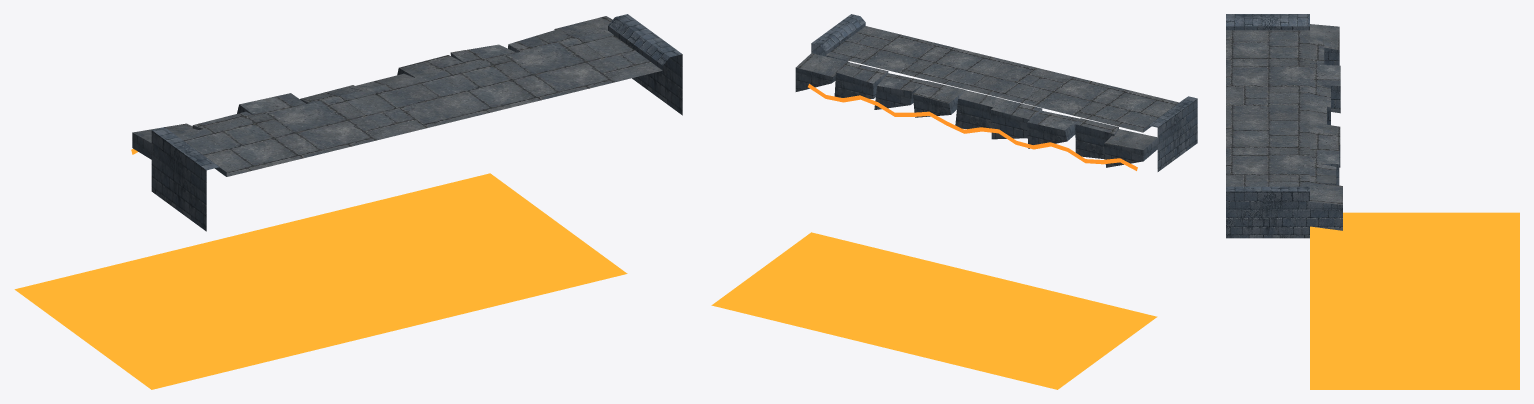
File: gap_edge.glb
3 renders of one model, left to right at view 1: azimuth 30°, elevation 25°; view 2: azimuth 150°, elevation 25°; view 3: azimuth 270°, elevation 25°, orthographic. The views are drawn at different scales.
Visible parts, largest first — view 1: void_glow, gap_edge_floor; view 2: void_glow, gap_edge_floor; view 3: void_glow, gap_edge_floor.
Part boxes in pixels (left/top/right/bottom): void_glow: left=14, top=148, right=627, bottom=389; gap_edge_floor: left=132, top=14, right=682, bottom=231; void_glow: left=711, top=83, right=1157, bottom=389; gap_edge_floor: left=795, top=14, right=1197, bottom=171; void_glow: left=1310, top=212, right=1519, bottom=389; gap_edge_floor: left=1226, top=14, right=1342, bottom=238.
Bounding box in the file's own units: 6 × 3.13 × 4.2.
Materials: 4 (2 with a texture image).
